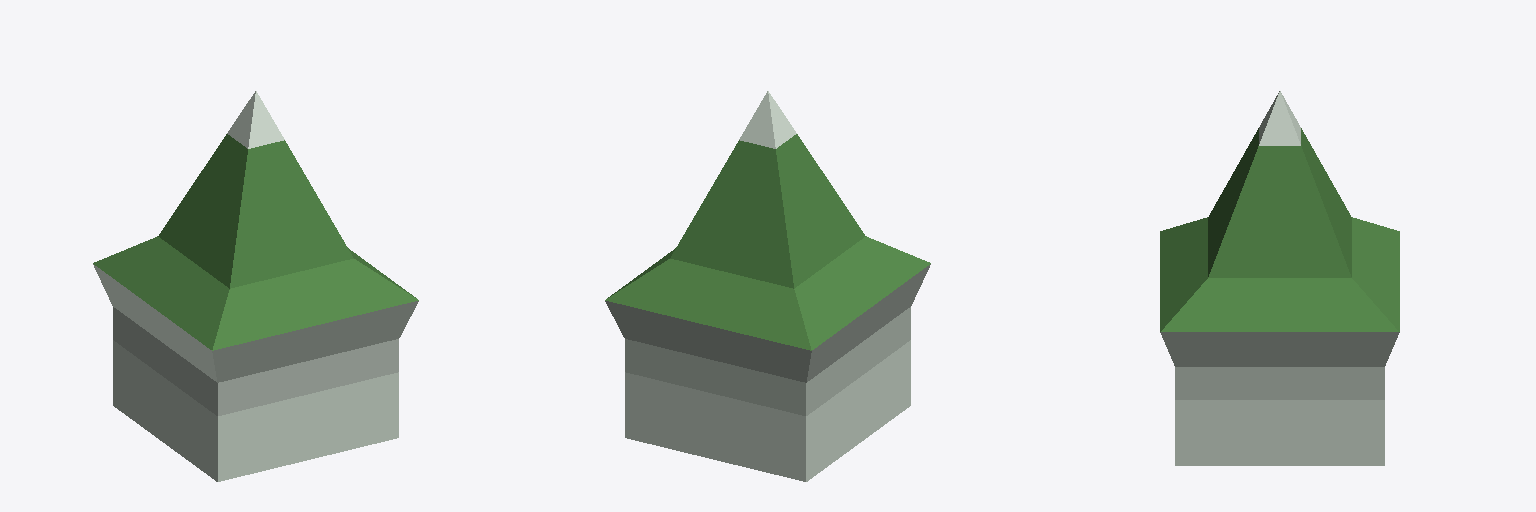
The model's file is towerDefense_023.obj.
3 renders of one model, left to right at view 1: azimuth 30°, elevation 25°; view 2: azimuth 150°, elevation 25°; view 3: azimuth 270°, elevation 25°, orthographic.
Parts seen in each view (by area): view 1: Mesh1 Group1 Model; view 2: Mesh1 Group1 Model; view 3: Mesh1 Group1 Model.
Boxes of the visible parts, box(x1,y1,x2,y2) form: Mesh1 Group1 Model: box(93, 91, 418, 481); Mesh1 Group1 Model: box(605, 91, 930, 481); Mesh1 Group1 Model: box(1160, 91, 1399, 465).
Size of the model in its own units: 0.6727 by 1.03 by 0.6727.